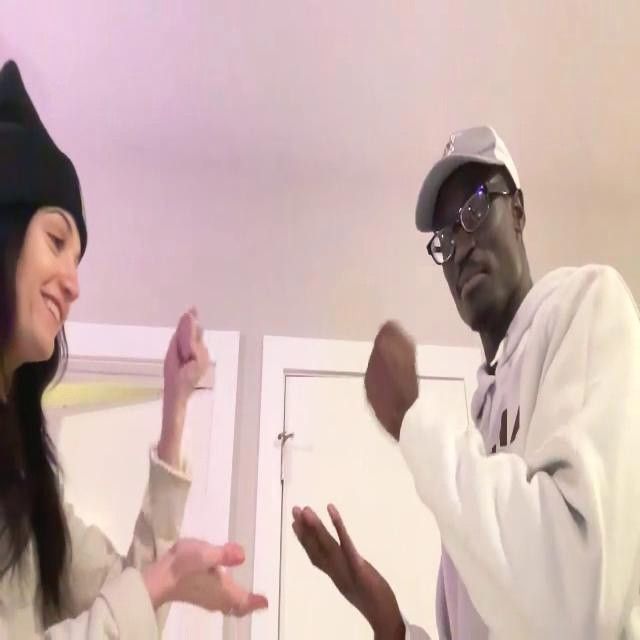Rock: (363, 317, 419, 435), (163, 306, 208, 404)
